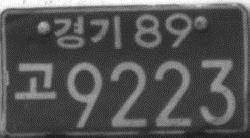2: (154, 57, 193, 129), (108, 61, 147, 130)
3: (195, 56, 236, 125)
8: (133, 13, 163, 47)
9: (65, 61, 102, 130), (165, 10, 194, 49)
경기_O: (51, 13, 125, 52)
고: (11, 60, 59, 102)
